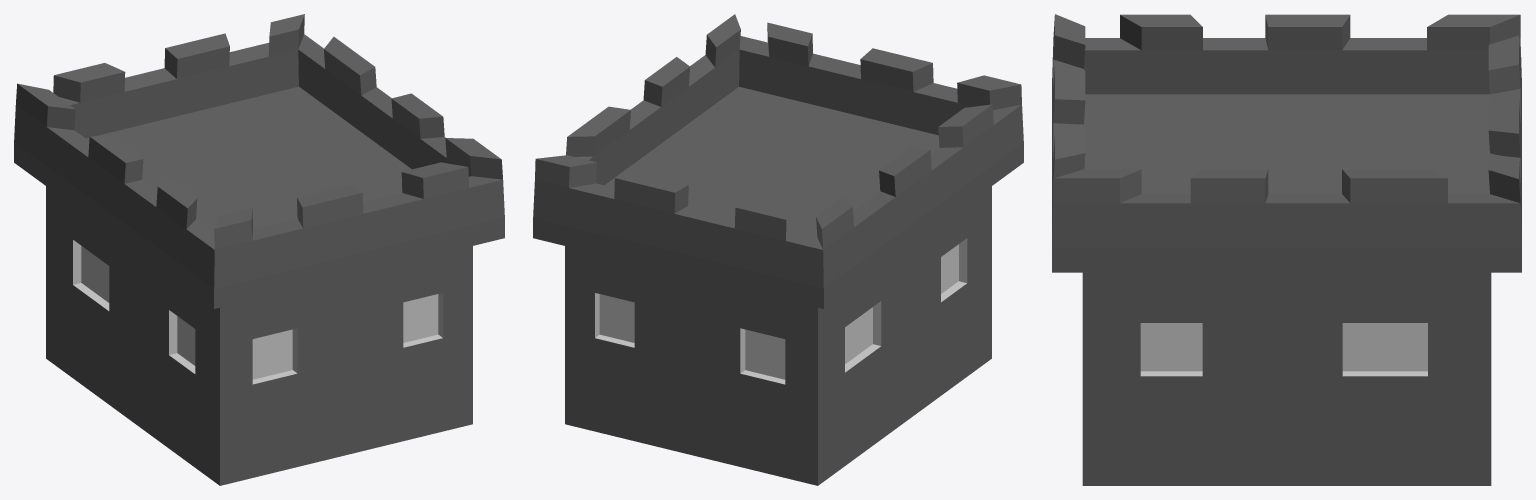
The model's file is centre_tower_piece.fbx.
3 renders of one model, left to right at view 1: azimuth 30°, elevation 25°; view 2: azimuth 150°, elevation 25°; view 3: azimuth 270°, elevation 25°, orthographic. The views are drawn at different scales.
Visible parts, largest first — view 1: centre_tower; view 2: centre_tower; view 3: centre_tower.
Boxes of the visible parts, bbox=[...] form: centre_tower: bbox=[14, 14, 504, 485]; centre_tower: bbox=[533, 14, 1023, 485]; centre_tower: bbox=[1052, 14, 1521, 485].
Size of the model in its own units: 1513 by 1341 by 1803.
Materials: 1 (1 with a texture image).
